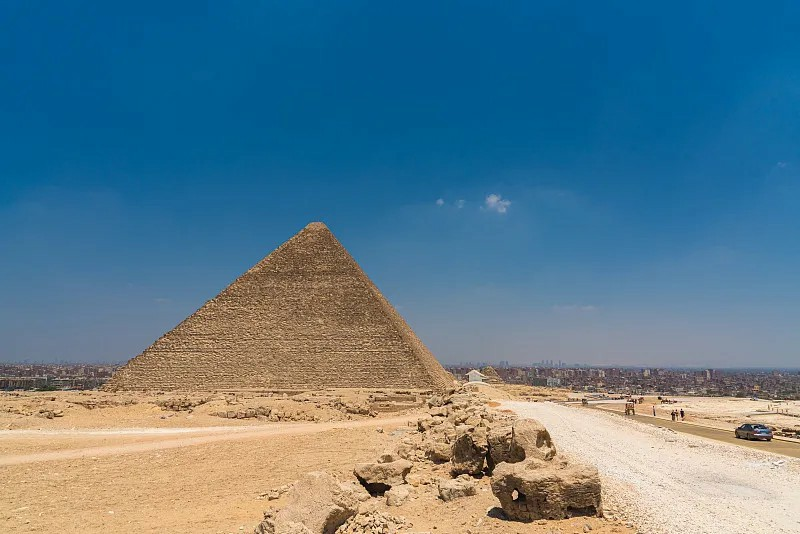Pyramid: (105, 222, 453, 393)
